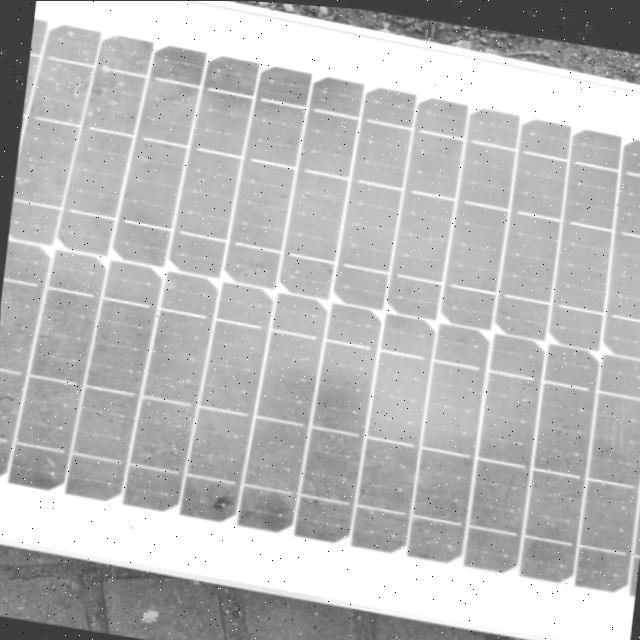Surface Contaminant: (0, 21, 640, 602)
